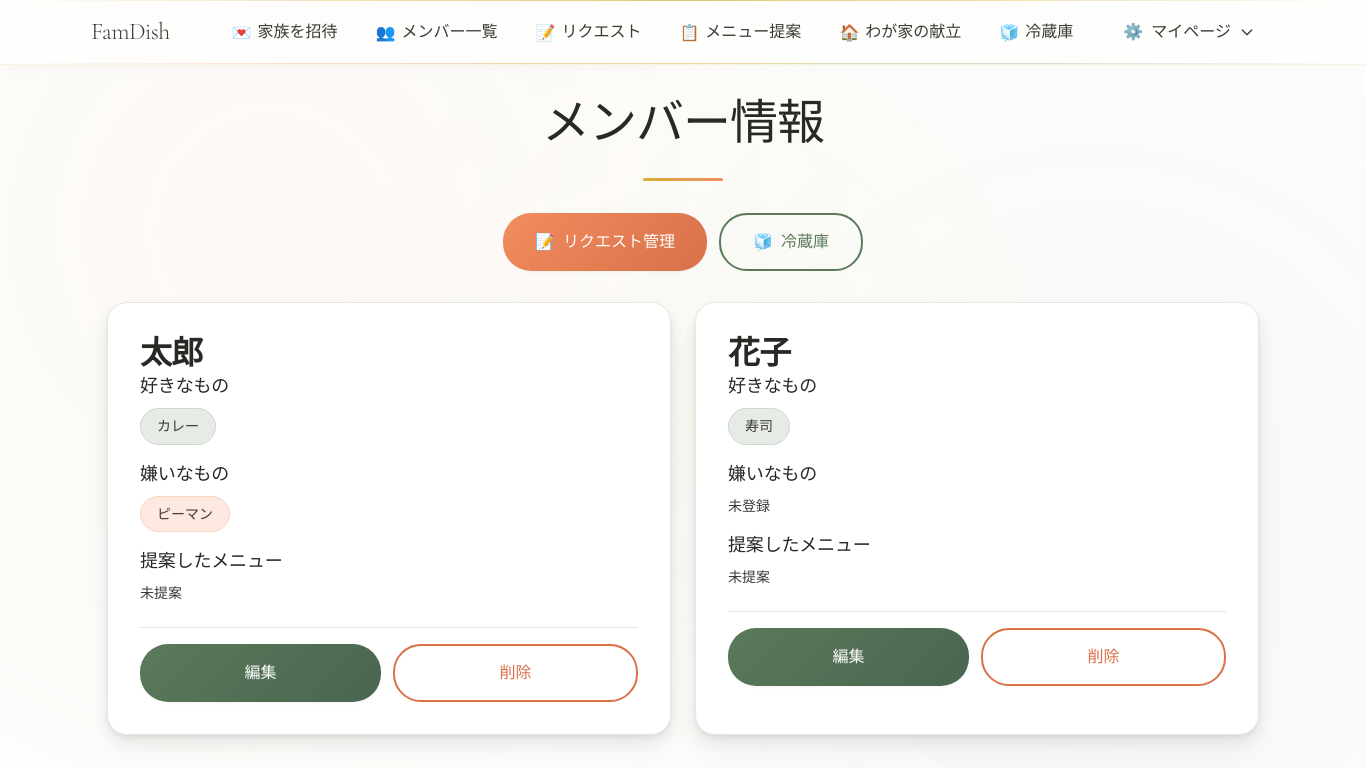
it: MemberForm › 自分のメンバーの「編集」ボタンで編集モーダルが開く
expect the heading "太郎" is shown: met, box left=140, top=334, right=203, bottom=373
Click the button "編集" below "ピーマン" at (260, 673), box left=140, top=644, right=381, bottom=702
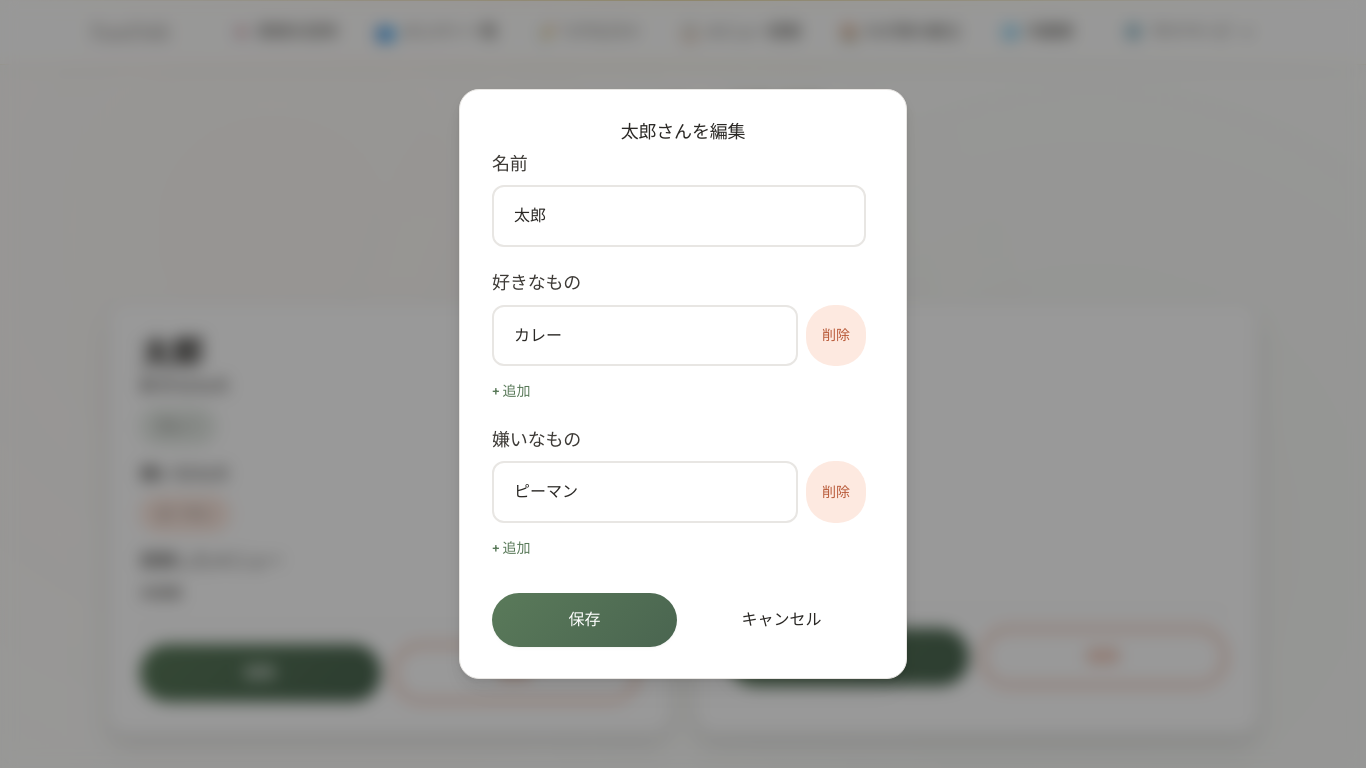
expect the heading "太郎さんを編集" is shown: met, box left=621, top=121, right=745, bottom=143
